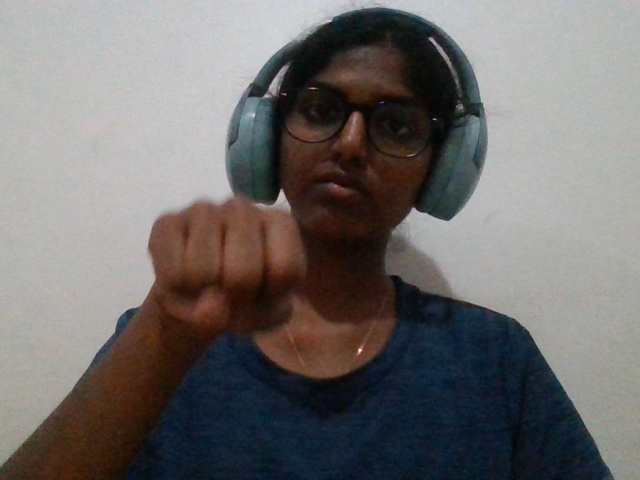Yes: (121, 161, 337, 405)
